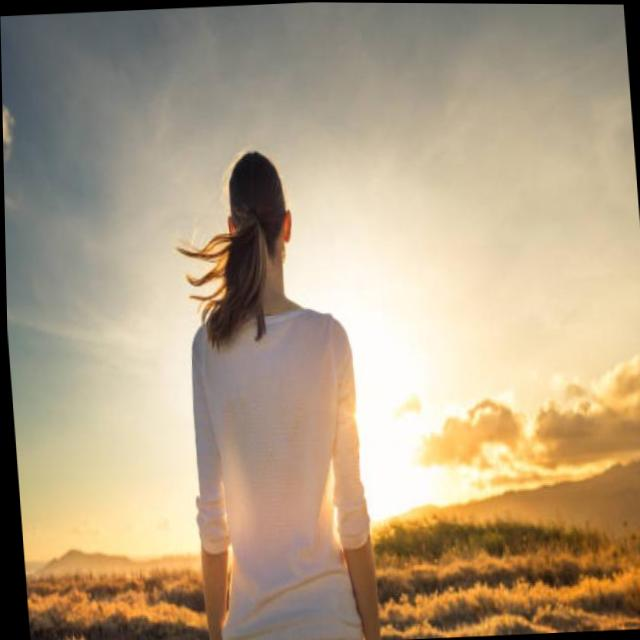no helmet: (196, 140, 314, 365)
